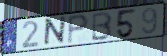2: (20, 20, 40, 51)
5: (115, 8, 138, 39)
9: (141, 7, 158, 36)
B: (90, 10, 114, 42)
N: (42, 15, 67, 48)
P: (66, 13, 91, 46)
